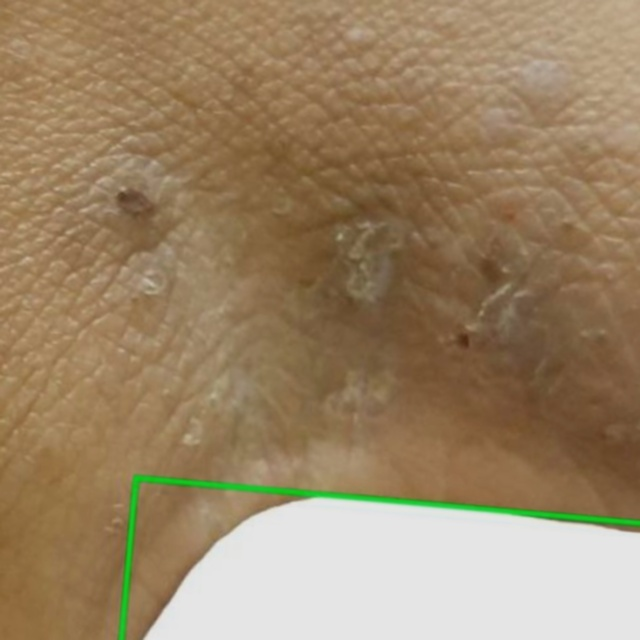Scabies: (121, 477, 639, 639)
